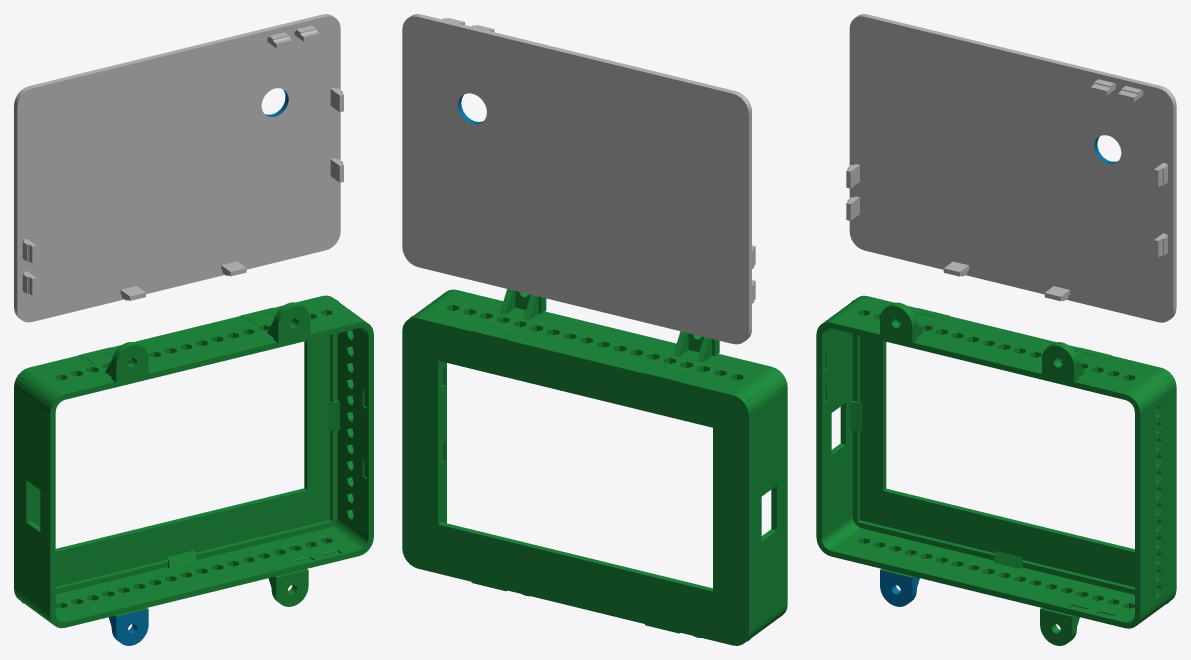
File: ESP32-S3_4_3_touch_panel.ascii.obj
3 views of the same model, side by side, from view 1: azimuth 30°, elevation 25°; view 2: azimuth 150°, elevation 25°; view 3: azimuth 330°, elevation 25° (orthographic). The views are drawn at different scales.
Parts seen in each view (by area): view 1: Object.1, Object.4, Object.5, Object.6, Object.3, Object.2; view 2: Object.1, Object.4, Object.5, Object.6; view 3: Object.1, Object.4, Object.6, Object.5, Object.3, Object.2.
Part boxes in pixels (box(x1,y1,x2,y2)): Object.1: box(14, 14, 343, 322); Object.4: box(14, 295, 373, 628); Object.5: box(267, 302, 310, 343); Object.6: box(105, 342, 148, 382); Object.3: box(268, 569, 308, 606); Object.2: box(108, 608, 148, 645); Object.1: box(402, 14, 755, 344); Object.4: box(402, 289, 787, 645); Object.5: box(500, 289, 546, 320); Object.6: box(673, 331, 719, 362); Object.1: box(846, 14, 1176, 322); Object.4: box(816, 295, 1176, 628); Object.6: box(880, 302, 923, 343); Object.5: box(1042, 342, 1085, 382); Object.3: box(1040, 608, 1079, 645); Object.2: box(880, 569, 919, 606).
Bounding box in the file's own units: 120 × 195 × 24.22.
